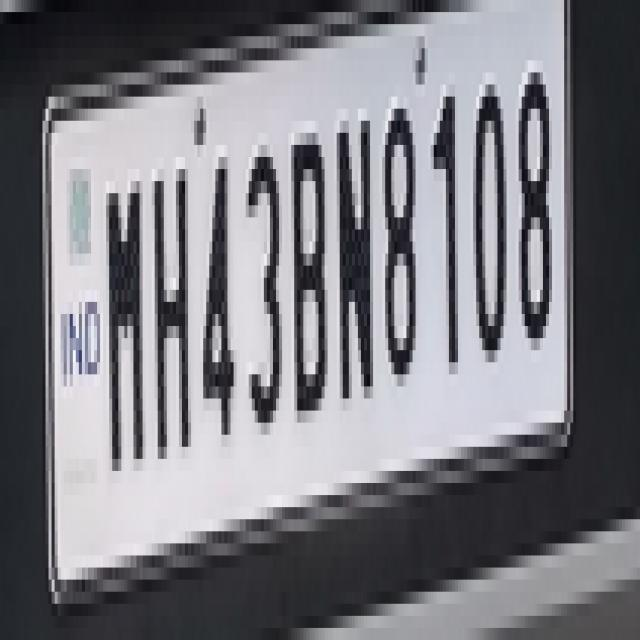0: (472, 79, 518, 362)
1: (429, 68, 468, 399)
3: (244, 136, 288, 445)
4: (201, 138, 240, 456)
8: (378, 86, 424, 401), (514, 66, 558, 364)
B: (292, 139, 335, 431)
H: (150, 169, 194, 465)
M: (102, 164, 148, 475)
N: (336, 114, 382, 421)
